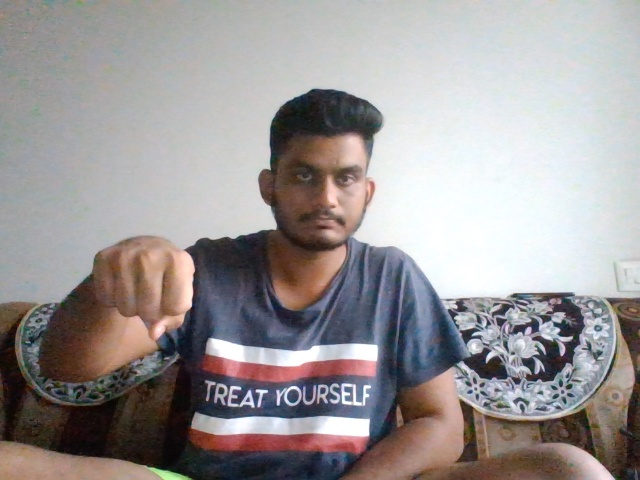Yes: (79, 233, 210, 340)
